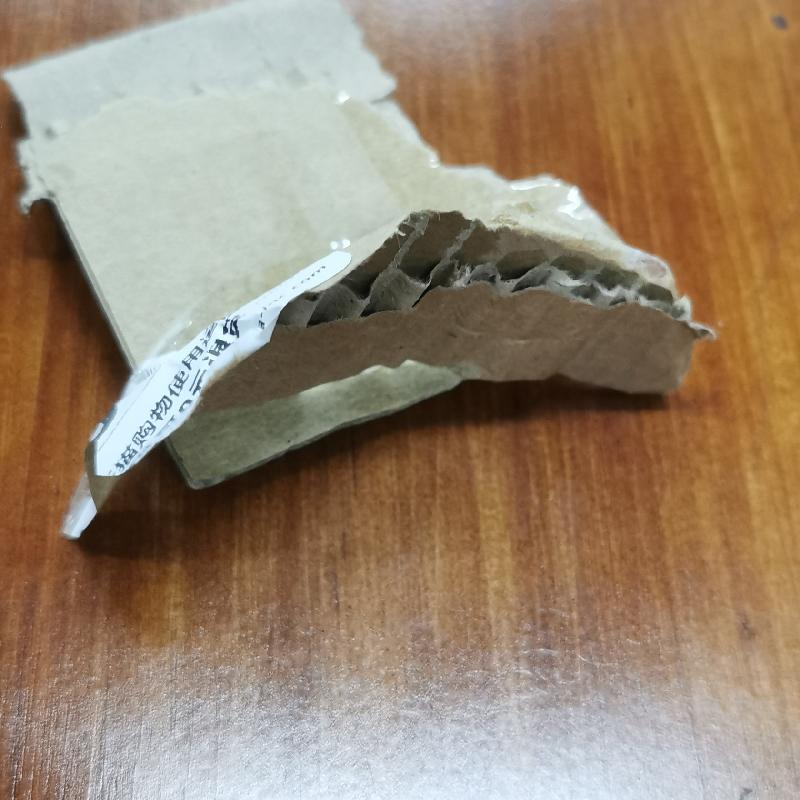boxes: (3, 3, 718, 537)
